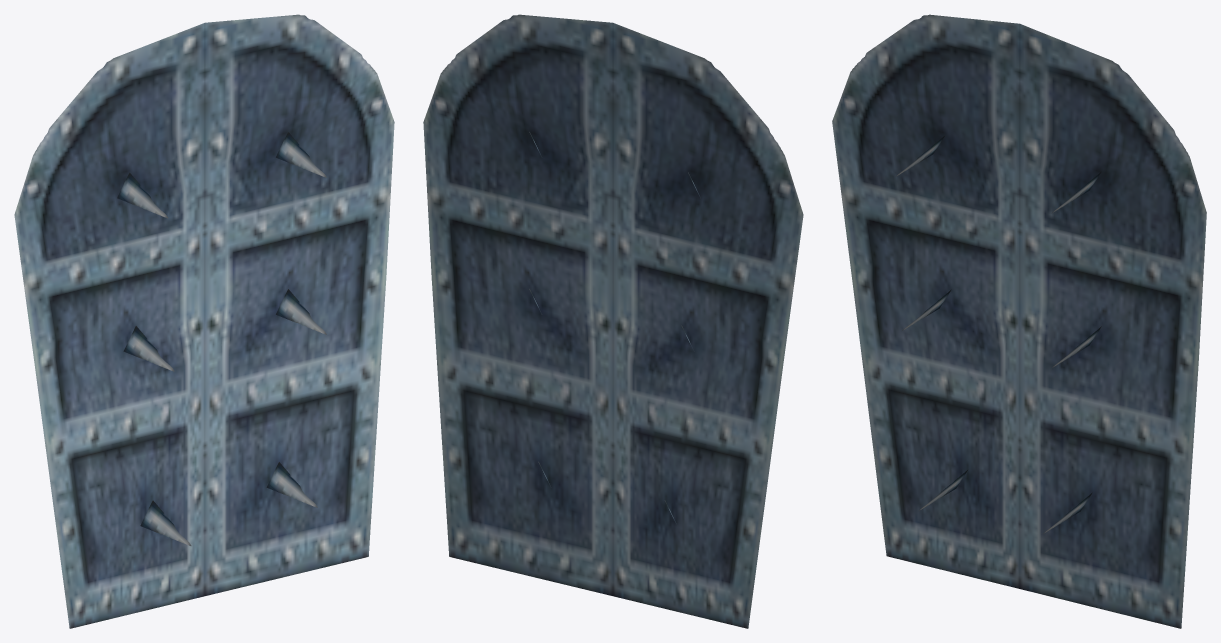
The model's file is gate_02.fbx.
The picture shows the model from 3 angles, left to right: view 1: azimuth 30°, elevation 25°; view 2: azimuth 150°, elevation 25°; view 3: azimuth 330°, elevation 25°; orthographic projection.
Visible parts, largest first — view 1: gate00_mesh; view 2: gate00_mesh; view 3: gate00_mesh.
Boxes of the visible parts, box(x1,y1,x2,y2) form: gate00_mesh: box(14, 14, 394, 628); gate00_mesh: box(423, 14, 803, 628); gate00_mesh: box(832, 14, 1206, 628).
Size of the model in its own units: 2.42 by 3.49 by 0.5191.
